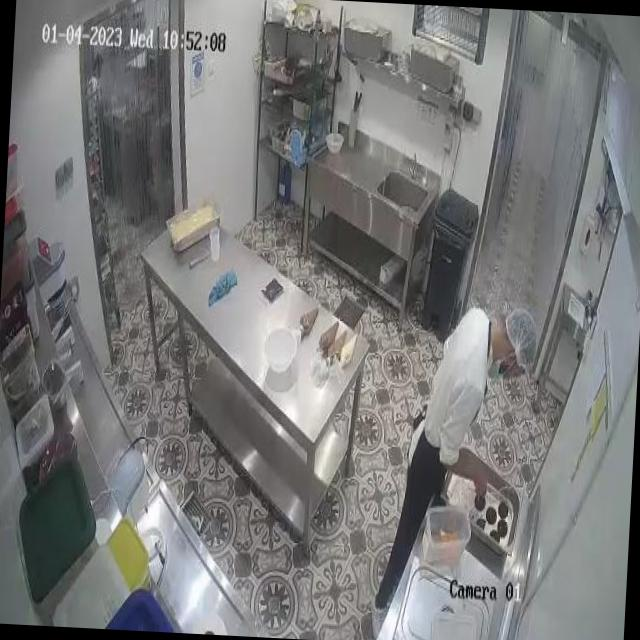hairnet: (504, 308, 538, 371)
